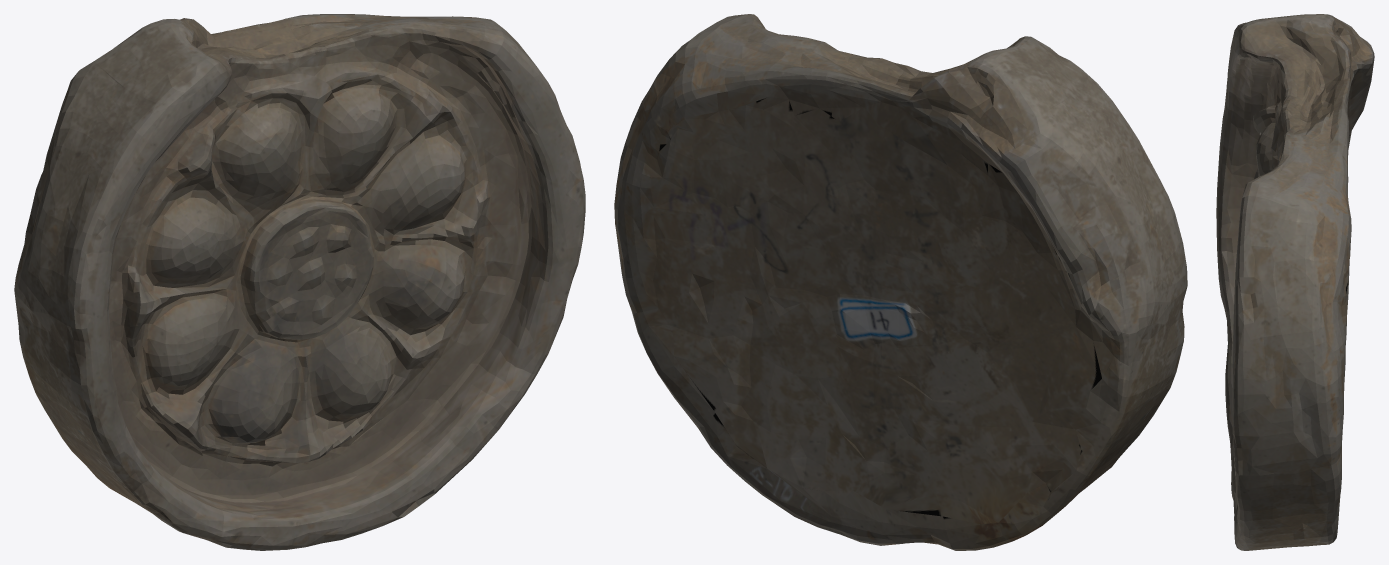
Rendered from 41_deci.glb.
3 renders of one model, left to right at view 1: azimuth 30°, elevation 25°; view 2: azimuth 150°, elevation 25°; view 3: azimuth 270°, elevation 25°, orthographic. The views are drawn at different scales.
Parts seen in each view (by area): view 1: 41_V1_low; view 2: 41_V1_low; view 3: 41_V1_low.
Boxes of the visible parts, <box> form: 41_V1_low: <box>14,14,585,550</box>; 41_V1_low: <box>614,14,1187,550</box>; 41_V1_low: <box>1216,14,1374,550</box>.
Size of the model in its own units: 155 by 145 by 45.44.
Materials: 1 (1 with a texture image).
